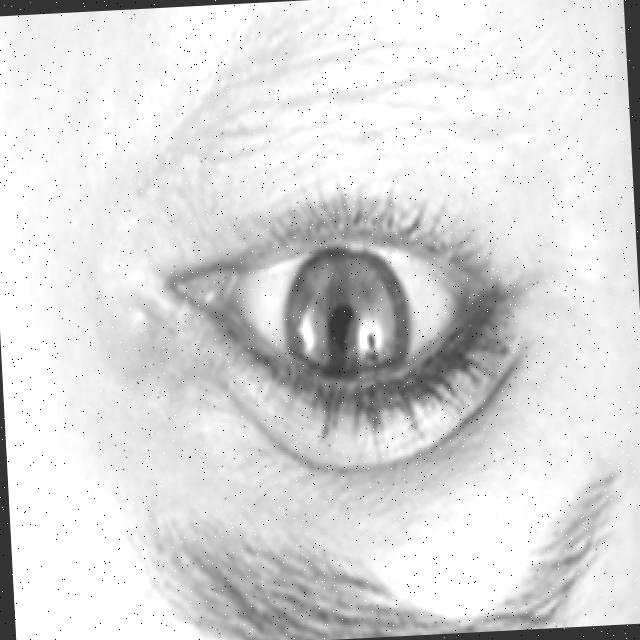Normal: (130, 178, 528, 463)
